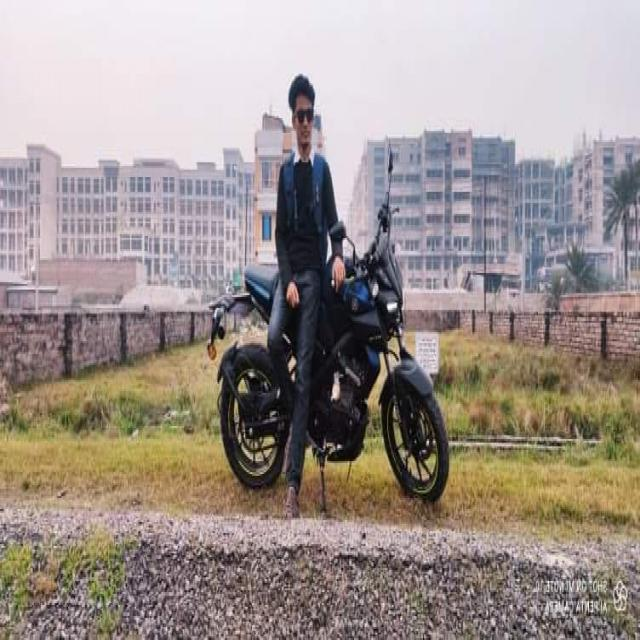Not Wearing Helmet: (269, 45, 329, 225)
